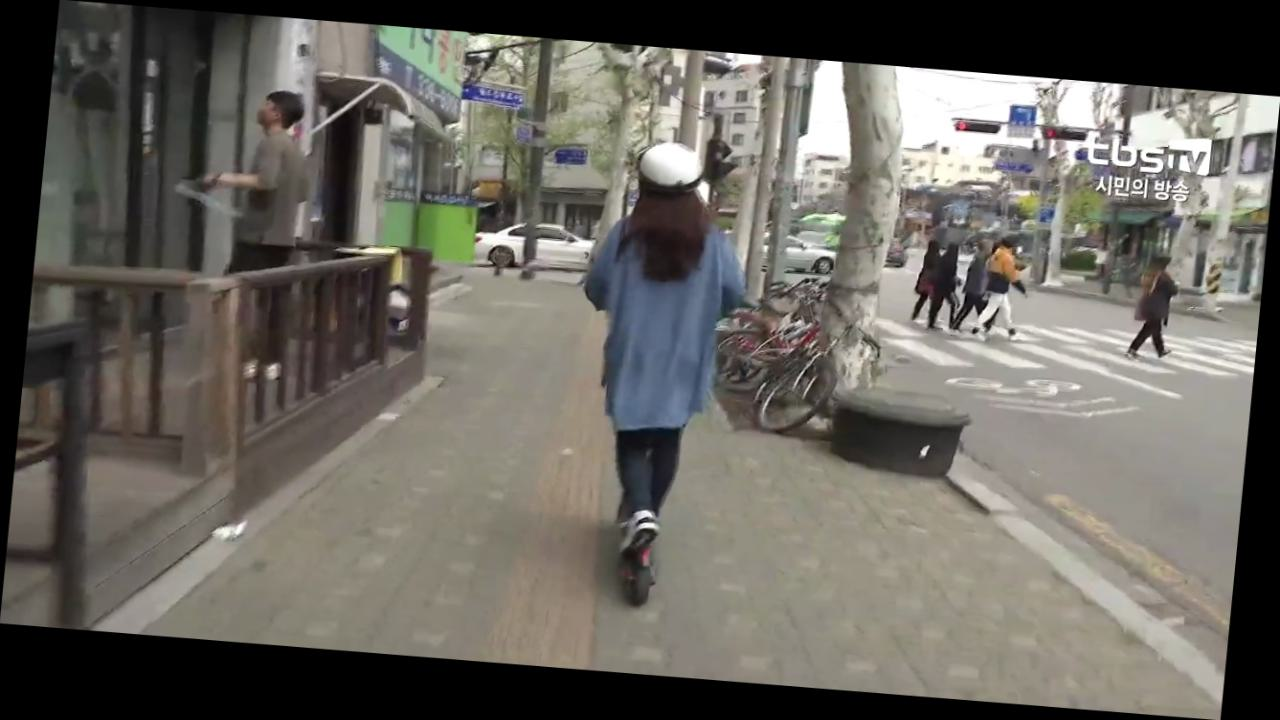helmet: (549, 135, 764, 612)
